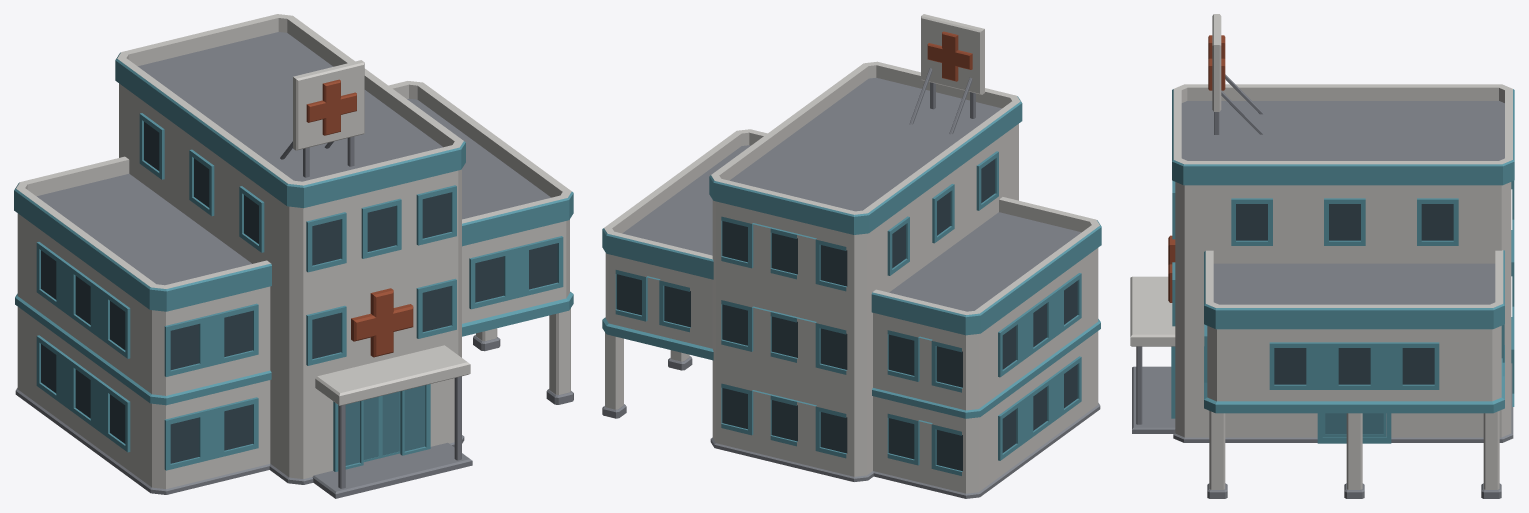
The model's file is toy-town-hospital-81dd0c.glb.
3 views of the same model, side by side, from view 1: azimuth 30°, elevation 25°; view 2: azimuth 150°, elevation 25°; view 3: azimuth 270°, elevation 25° (orthographic). The views are drawn at different scales.
Visible parts, largest first — view 1: hospital-body, door-entrance-r-leaf, door-entrance-l-leaf; view 2: hospital-body; view 3: hospital-body, door-bay-l-leaf, door-bay-r-leaf.
Boxes of the visible parts, bbox=[...] form: hospital-body: bbox=[14, 14, 573, 498]; door-entrance-r-leaf: bbox=[380, 391, 400, 457]; door-entrance-l-leaf: bbox=[363, 396, 380, 461]; hospital-body: bbox=[602, 14, 1101, 498]; hospital-body: bbox=[1130, 14, 1514, 498]; door-bay-l-leaf: bbox=[1322, 413, 1346, 437]; door-bay-r-leaf: bbox=[1362, 413, 1386, 437].
Bounding box in the file's own units: 14 × 12.4 × 12.
